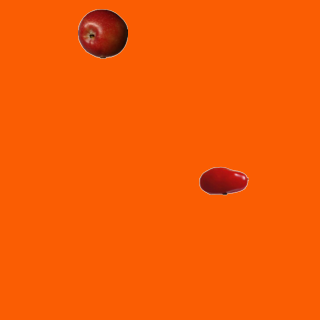Apple Braeburn: (77, 8, 127, 58)
Tomato 2: (198, 155, 248, 205)
